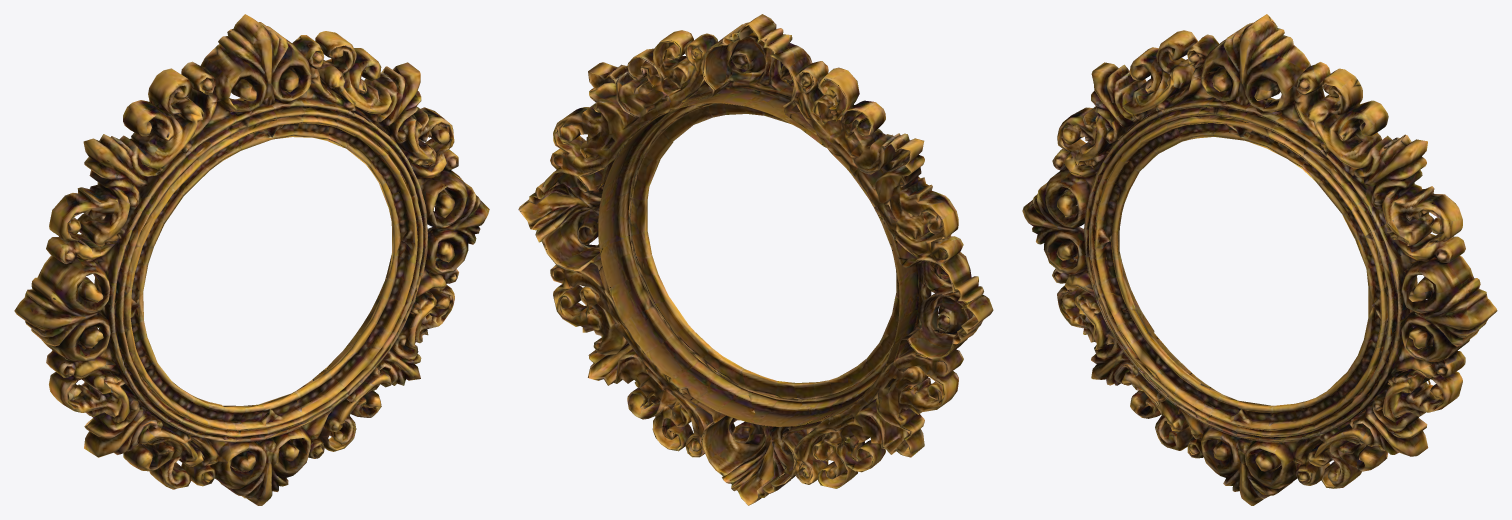
3 views of the same model, side by side, from view 1: azimuth 30°, elevation 25°; view 2: azimuth 150°, elevation 25°; view 3: azimuth 330°, elevation 25° (orthographic).
Size of the model in its own units: 1.9 by 1.9 by 0.2101.
1 material, 1 textured.
